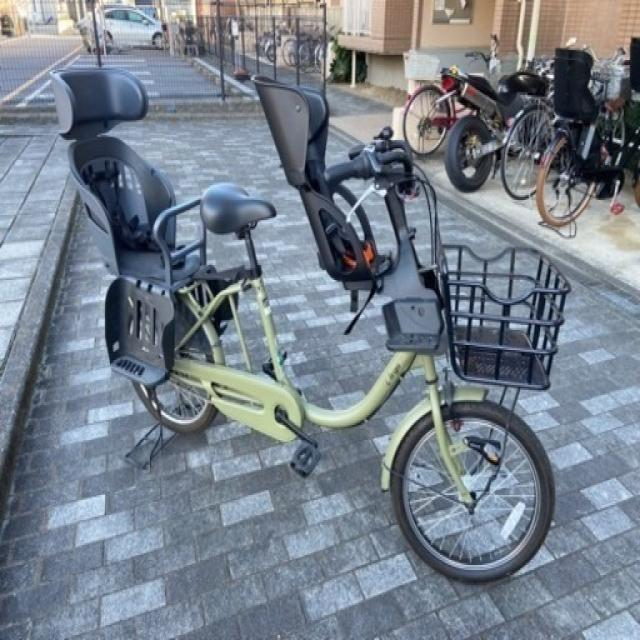basket: (440, 241, 560, 391)
childseat: (47, 60, 238, 399), (253, 69, 442, 355)
